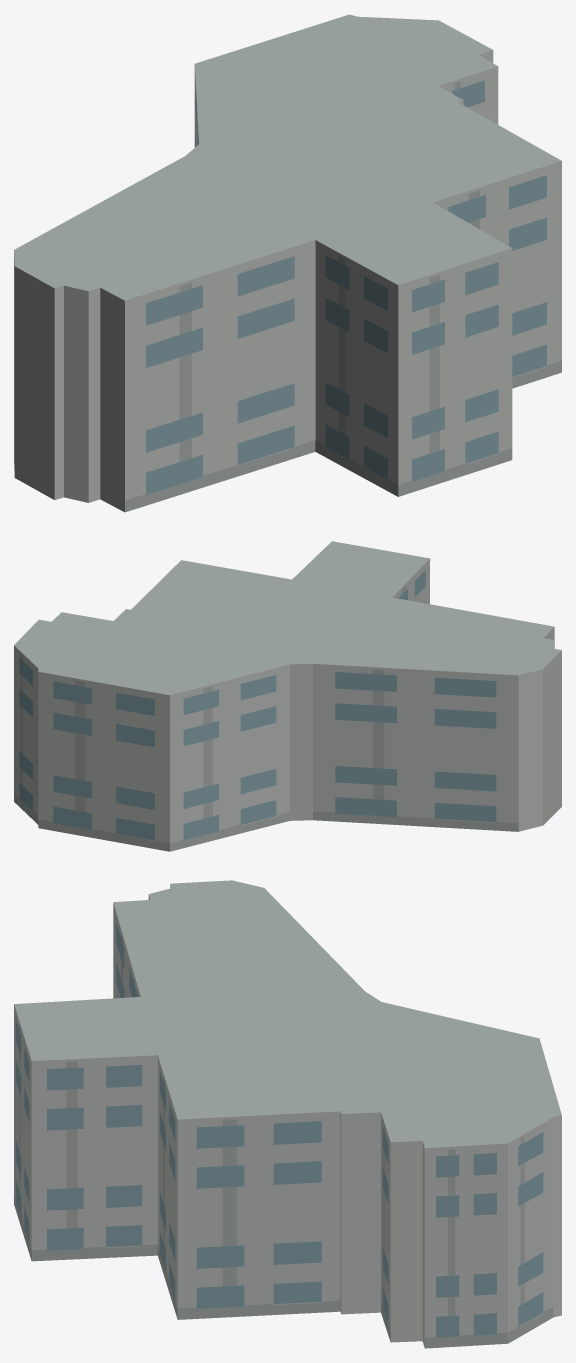
Rendered from survey-upis-32950431.glb.
3 views of the same model, one above another, from view 1: azimuth 30°, elevation 25°; view 2: azimuth 150°, elevation 25°; view 3: azimuth 270°, elevation 25° (orthographic). The views are drawn at different scales.
Parts seen in each view (by area): view 1: survey-upis-32950431.tmp; view 2: survey-upis-32950431.tmp; view 3: survey-upis-32950431.tmp.
Part boxes in pixels (bbox=[...]): survey-upis-32950431.tmp: bbox=[14, 14, 561, 512]; survey-upis-32950431.tmp: bbox=[14, 541, 561, 851]; survey-upis-32950431.tmp: bbox=[14, 880, 561, 1348].
Size of the model in its own units: 52.5 by 18.3 by 45.38.
